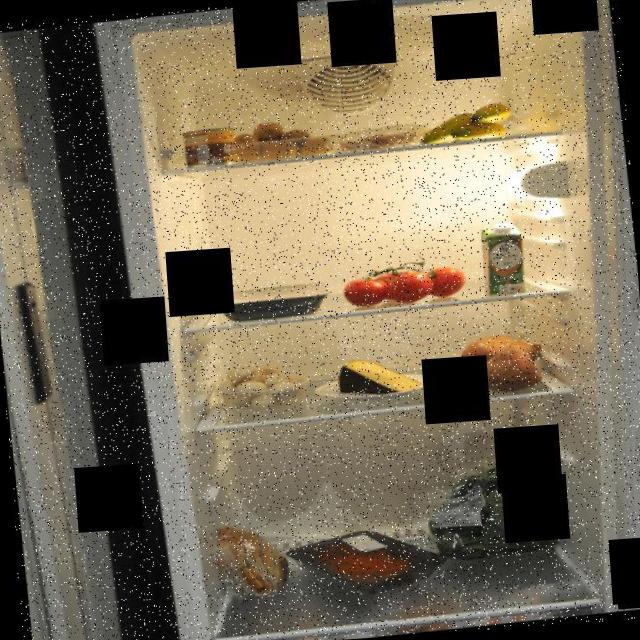Carne vacuno: (280, 517, 451, 609)
Champiñones: (214, 356, 308, 416)
Gambas/Langostinos: (336, 126, 440, 156)
Patata: (222, 114, 343, 166)
Plátano: (412, 98, 516, 147)
Queso: (334, 348, 426, 402)
Tomate: (330, 242, 470, 313)
